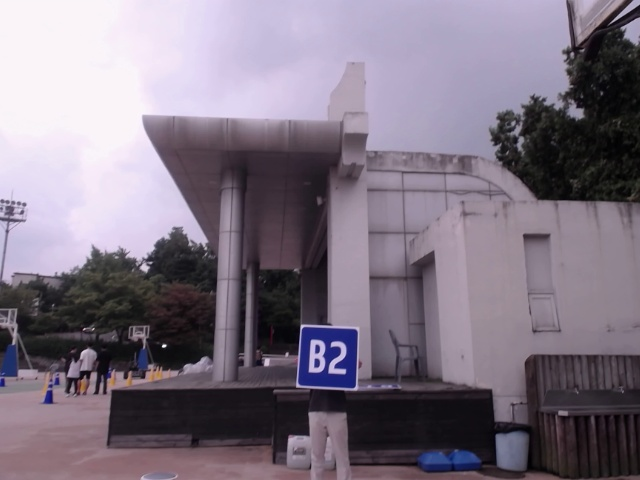delivery_b2: (300, 324, 363, 392)
